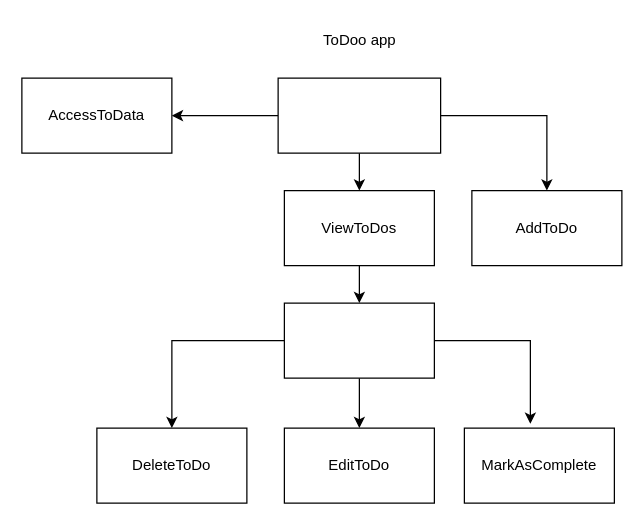
Image size: 644x525. Some labels were removed from this diagram. The centre of each missing label's shape, as x and y in pixels:
"App" belongs at point (359, 115).
"IndividualToDo" belongs at point (358, 340).
